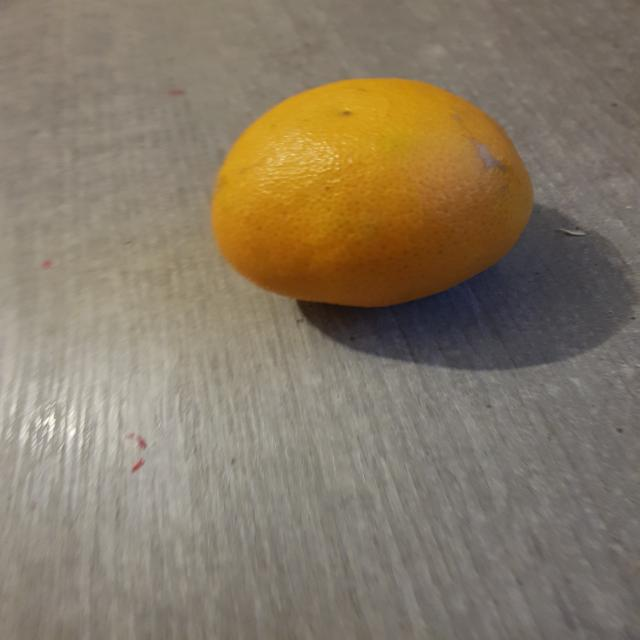Orange: (209, 78, 535, 309)
